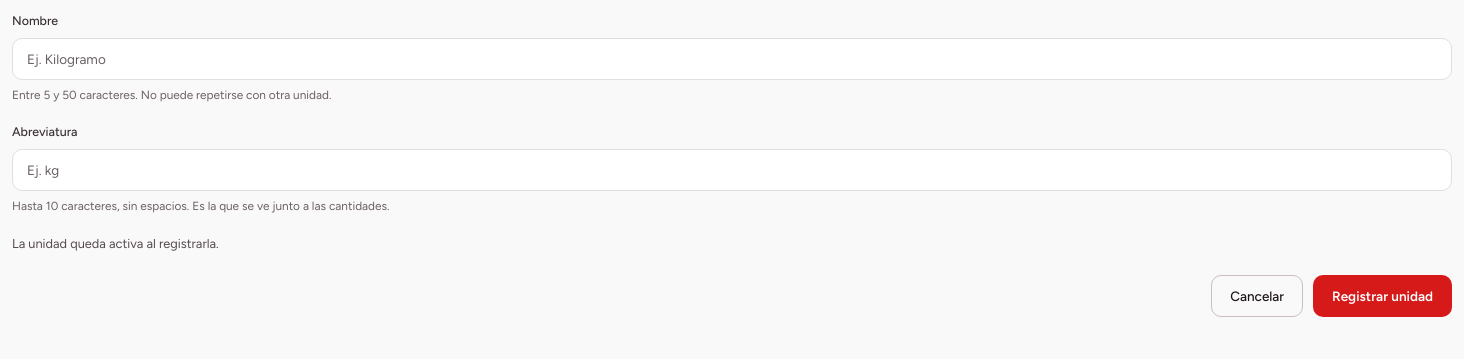
Test: CreateUnitForm › validates Caja / und
In the field labelled "Nombre": (732, 59) [12,38,1452,80], type "Caja"
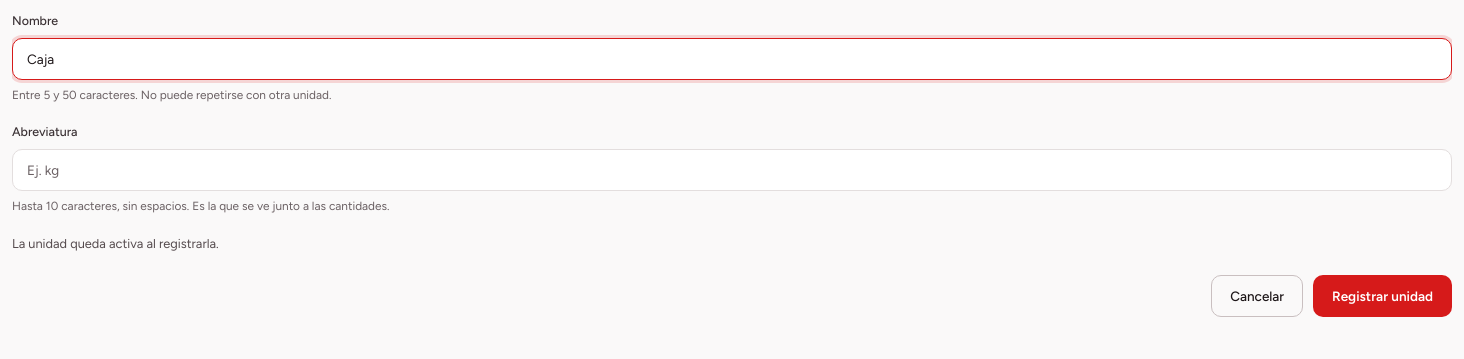
In the field labelled "Abreviatura": (732, 170) [12,149,1452,191], type "und"
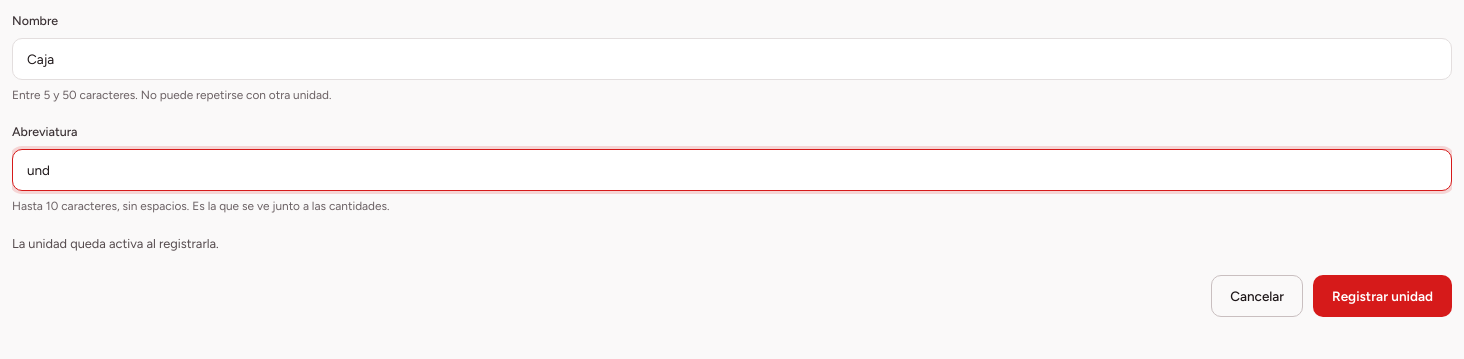
Click the button "Registrar unidad": click(1383, 296) [1313,275,1452,317]
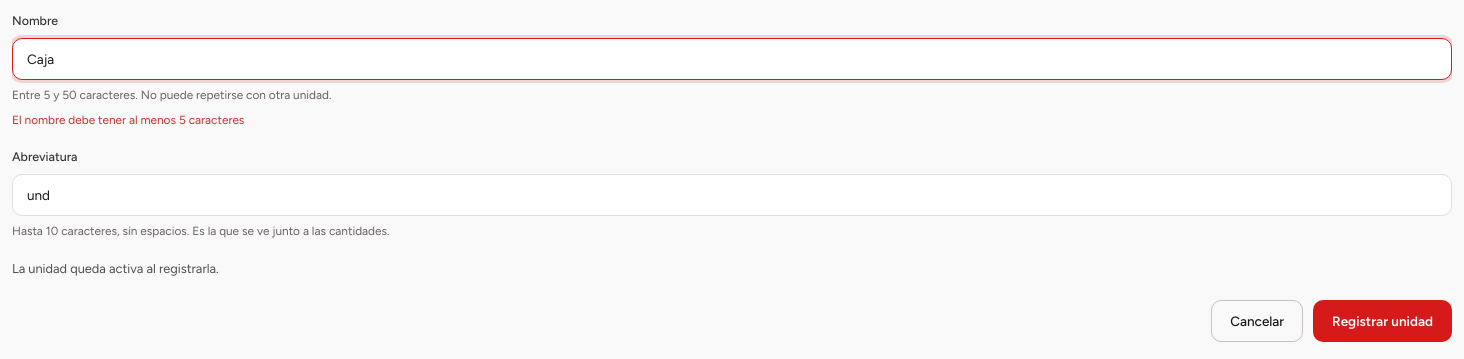
Expected: the text "El nombre debe tener al menos 5 caracteres" is shown, [12,113,244,127]
